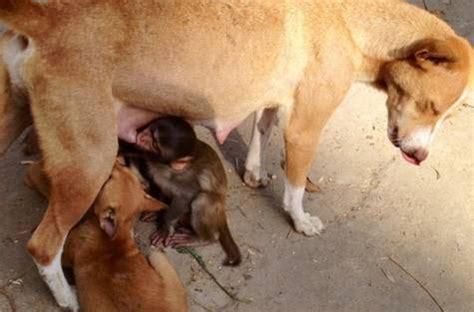dog: (1, 1, 474, 312), (63, 158, 187, 311)
monkey: (136, 116, 240, 266)
